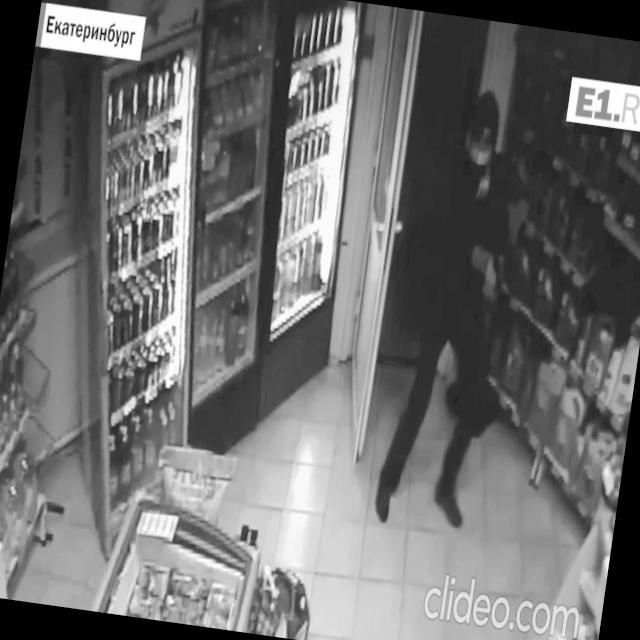gun: (486, 249, 514, 298)
person with a gun: (372, 80, 537, 540)
